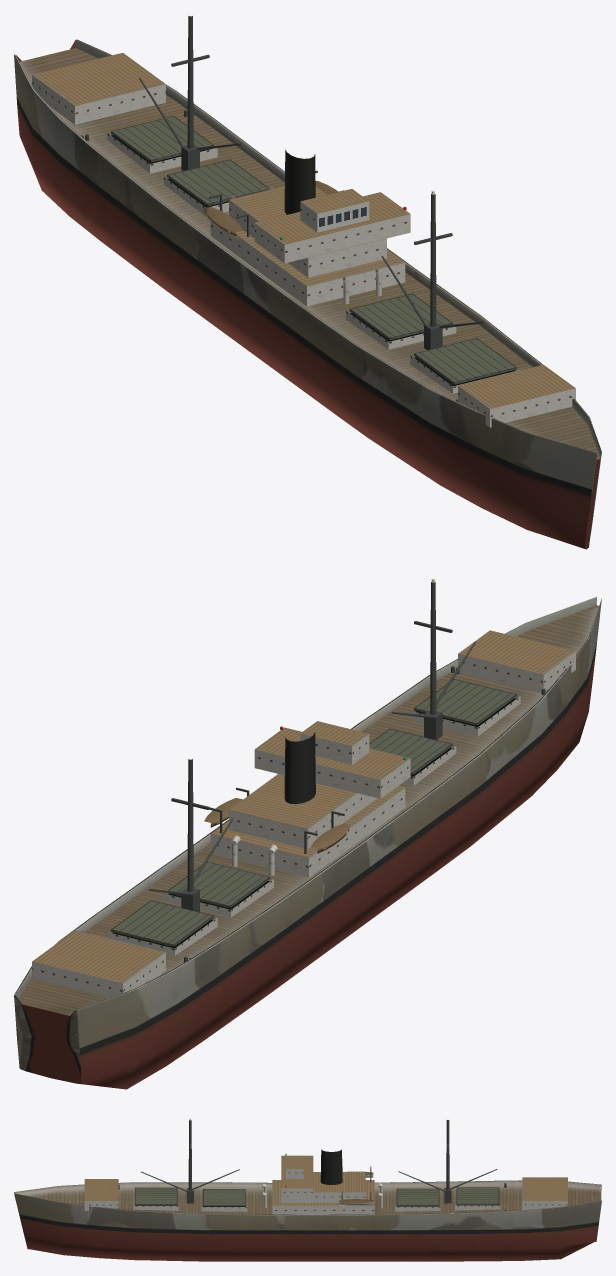
Rendered from cargo.glb.
3 views of the same model, one above another, from view 1: azimuth 30°, elevation 25°; view 2: azimuth 150°, elevation 25°; view 3: azimuth 270°, elevation 25° (orthographic). The views are drawn at different scales.
Parts seen in each view (by area): view 1: hull, hold_hatch_1, hold_hatch_3, hold_hatch_2, hold_hatch_4; view 2: hull, hold_hatch_4, hold_hatch_1, hold_hatch_3, hold_hatch_2; view 3: hull, hold_hatch_3, hold_hatch_4, hold_hatch_2, hold_hatch_1, boat_left.
Boxes of the visible parts, x1,y1,x2,y2 form: hull: (14, 16, 601, 549); hold_hatch_1: (414, 338, 516, 384); hold_hatch_3: (167, 159, 269, 206); hold_hatch_2: (349, 293, 452, 340); hold_hatch_4: (111, 116, 213, 162); hull: (14, 578, 601, 1089); hold_hatch_4: (111, 900, 213, 946); hold_hatch_1: (414, 679, 516, 725); hold_hatch_3: (168, 861, 270, 908); hold_hatch_2: (369, 728, 452, 775); hull: (14, 1118, 601, 1261); hold_hatch_3: (396, 1188, 439, 1206); hold_hatch_4: (456, 1187, 499, 1204); hold_hatch_2: (203, 1189, 245, 1206); hold_hatch_1: (135, 1187, 177, 1204); boat_left: (339, 1199, 373, 1205).
Bounding box in the file's own units: 17 × 31.69 × 129.
Materials: 8 (7 with a texture image).
